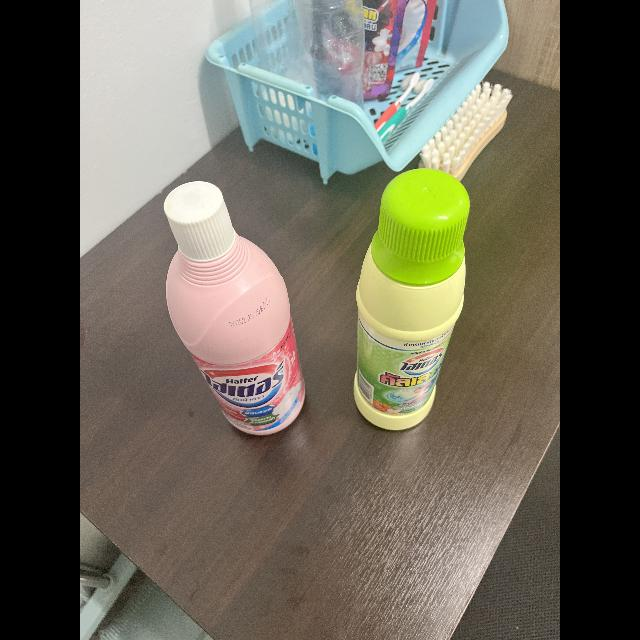chemical_plastic_bottle: (160, 181, 308, 439), (352, 162, 476, 440)
